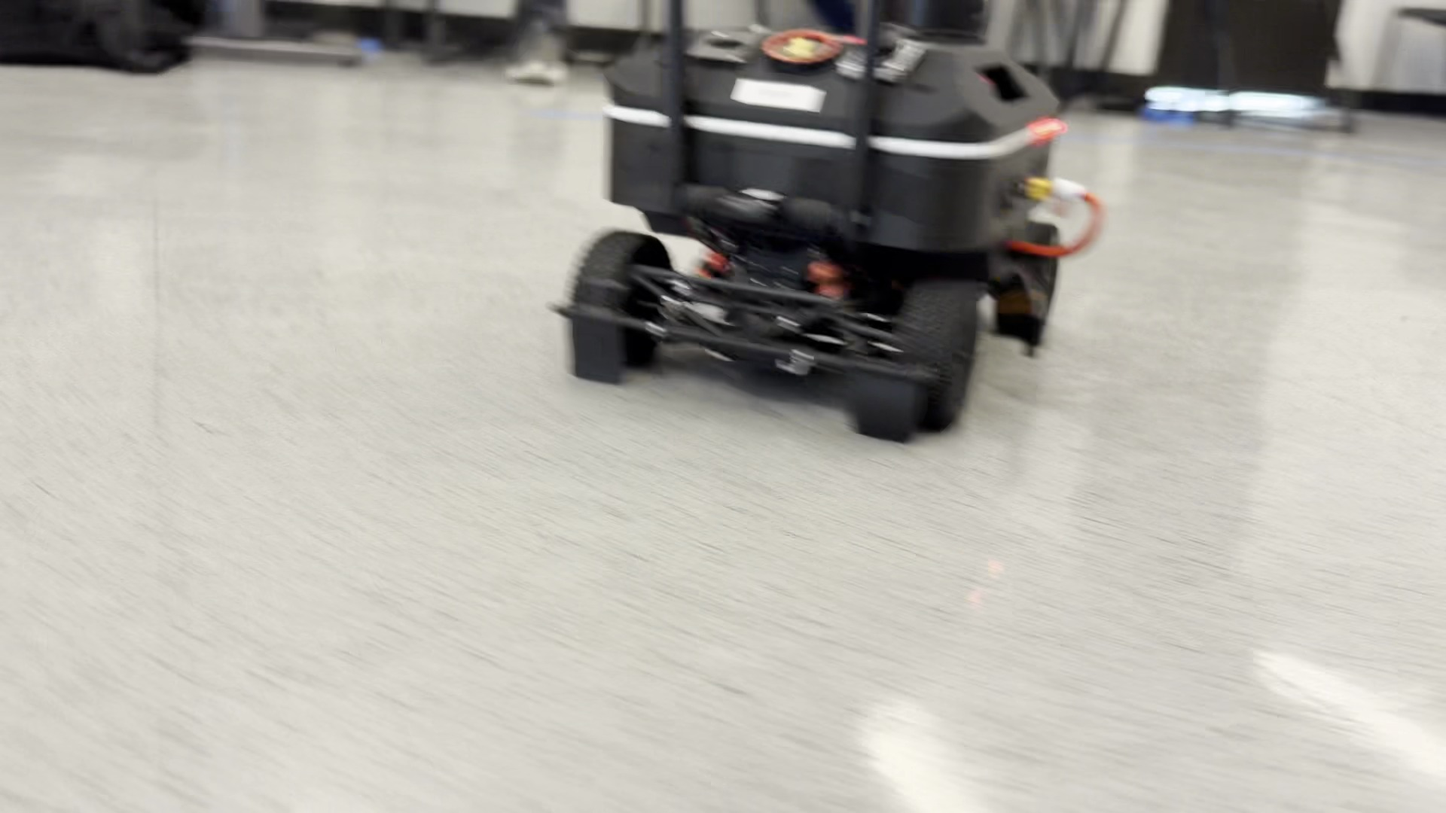racecar: (550, 1, 1102, 441)
